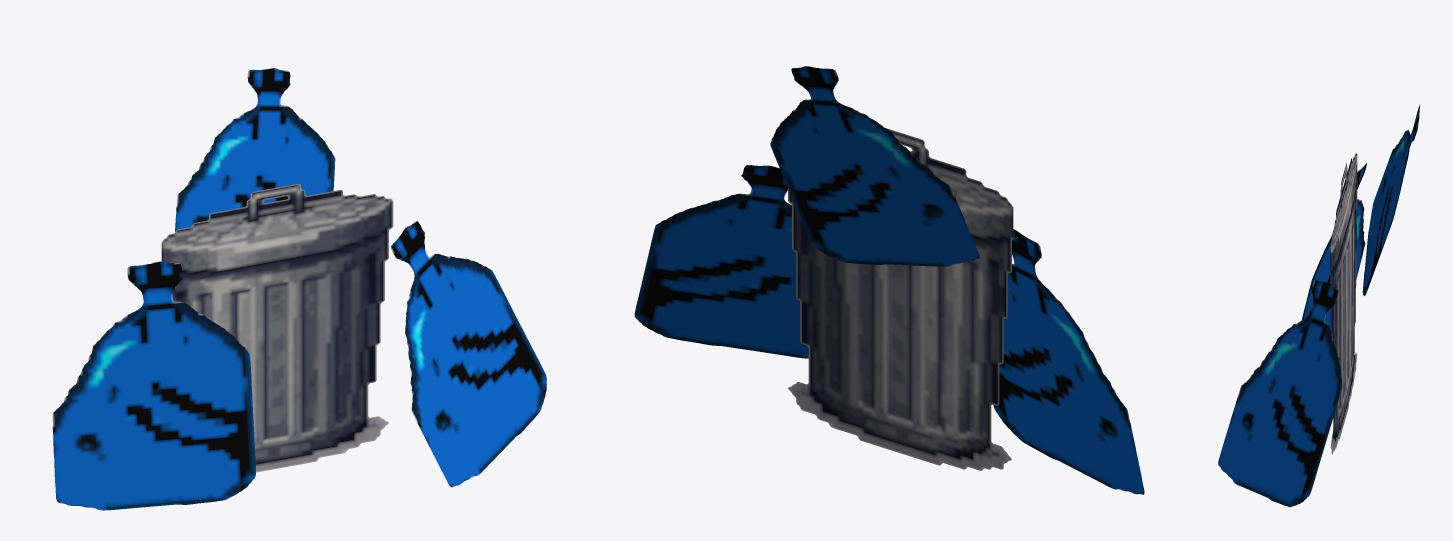
The model's file is bin.glb.
The picture shows the model from 3 angles, left to right: view 1: azimuth 30°, elevation 25°; view 2: azimuth 150°, elevation 25°; view 3: azimuth 270°, elevation 25°; orthographic projection. The views are drawn at different scales.
Visible parts, largest first — view 1: JumpBin; view 2: JumpBin; view 3: JumpBin.
Boxes of the visible parts, box(x1,y1,x2,y2) form: JumpBin: box(52, 68, 546, 510); JumpBin: box(634, 66, 1144, 494); JumpBin: box(1218, 104, 1420, 507).
Bounding box in the file's own units: 3.21 × 2.63 × 1.43.
1 material, 1 textured.
